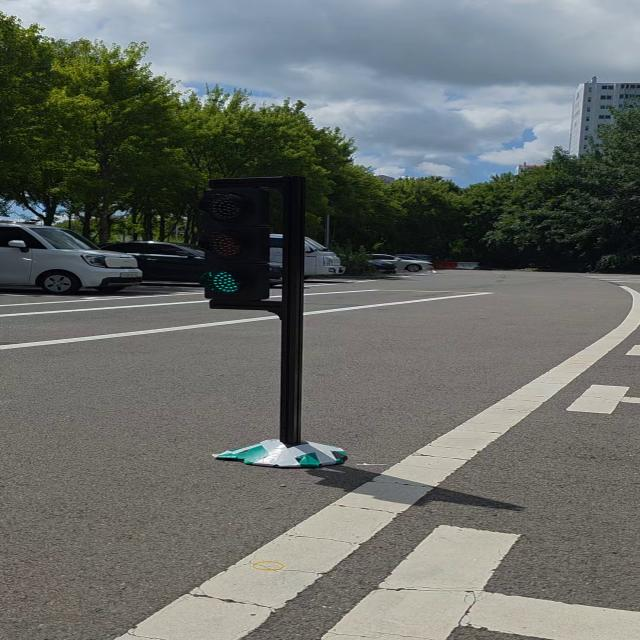green: (197, 178, 280, 307)
